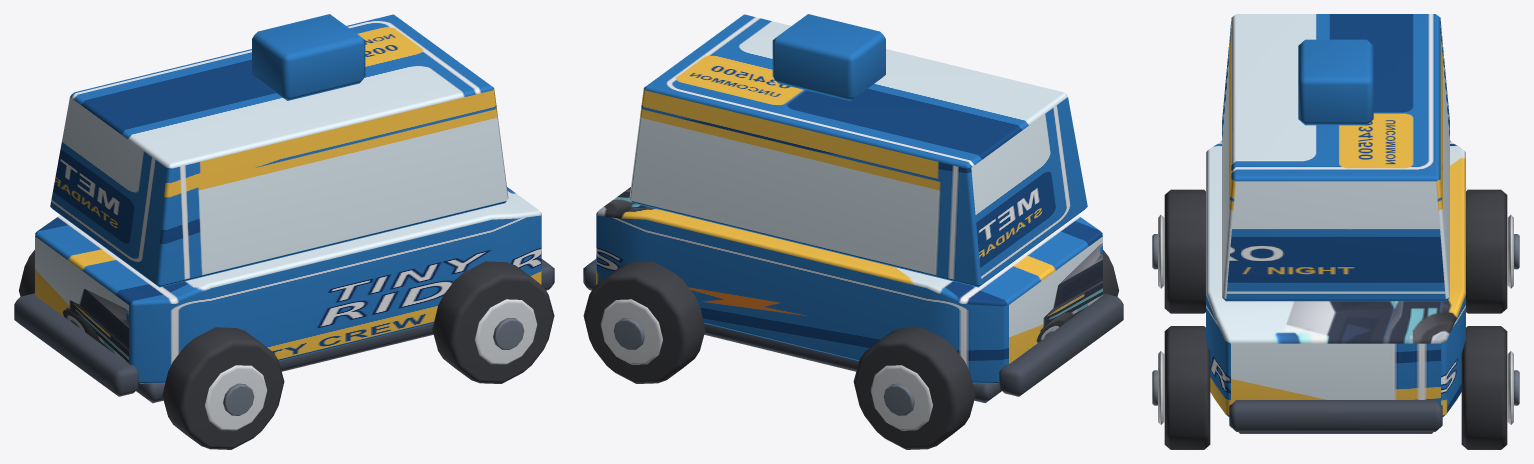
3 views of the same model, side by side, from view 1: azimuth 30°, elevation 25°; view 2: azimuth 150°, elevation 25°; view 3: azimuth 270°, elevation 25° (orthographic). The views are drawn at different scales.
Parts seen in each view (by area): view 1: CC-04_cabin, CC-04_connected_shell, Tire, Tire.002, roof sign, front bumper, Rim, Rim.002, underbody, Hub, Hub.002; view 2: CC-04_cabin, CC-04_connected_shell, Tire.001, Tire.003, roof sign, front bumper, Rim.001, Rim.003, underbody, Hub.001, Hub.003; view 3: CC-04_cabin, CC-04_connected_shell, rear bumper, roof sign, Tire.002, Tire.003, Tire, Tire.001, Rim, Rim.001, Rim.002, Rim.003 (+1 smaller).
Part boxes in pixels (x1,y1,x2,y2): CC-04_cabin: (50,14,508,287); CC-04_connected_shell: (35,187,541,383); Tire: (162,327,284,449); Tire.002: (432,261,554,383); roof sign: (252,14,365,100); front bumper: (14,293,139,396); Rim: (205,365,267,430); Rim.002: (475,299,537,364); underbody: (136,323,433,403); Hub: (223,383,254,415); Hub.002: (493,318,524,349); CC-04_cabin: (629,14,1087,287); CC-04_connected_shell: (596,187,1102,383); Tire.001: (853,327,975,449); Tire.003: (583,261,705,383); roof sign: (772,14,885,100); front bumper: (998,293,1123,396); Rim.001: (870,365,932,430); Rim.003: (600,299,662,364); underbody: (704,323,1001,403); Hub.001: (883,383,914,415); Hub.003: (613,318,644,349); CC-04_cabin: (1222,14,1449,301); CC-04_connected_shell: (1206,141,1465,416); rear bumper: (1229,400,1442,431); roof sign: (1298,39,1373,125); Tire.002: (1164,326,1210,449); Tire.003: (1461,326,1507,449); Tire: (1164,189,1205,313); Tire.001: (1466,189,1507,313); Rim: (1158,215,1164,288); Rim.001: (1507,215,1513,288); Rim.002: (1158,351,1164,424); Rim.003: (1507,351,1513,424).
Size of the model in its own units: 301 by 208 by 209.
